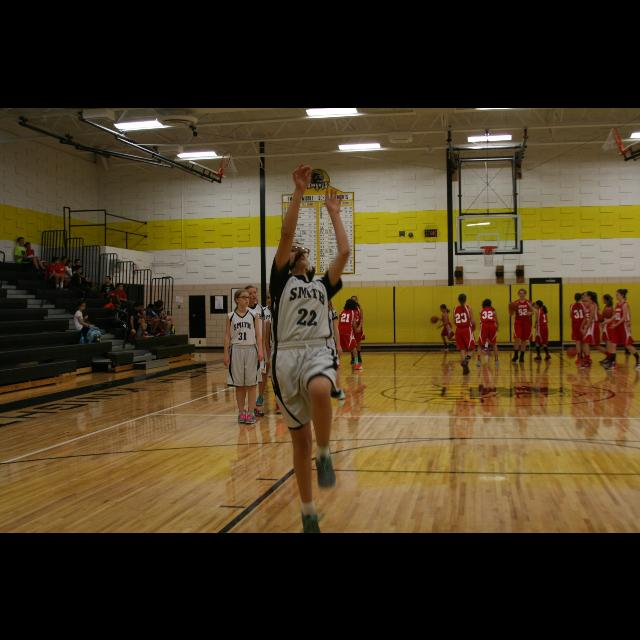head: (283, 240, 311, 272), (234, 289, 250, 307), (244, 284, 258, 302), (321, 296, 333, 308), (266, 291, 276, 305), (616, 288, 626, 300), (584, 290, 594, 302), (458, 292, 467, 304), (583, 292, 593, 302), (346, 298, 356, 308), (604, 294, 612, 304), (574, 292, 582, 302), (534, 300, 544, 308), (484, 298, 492, 308), (350, 295, 358, 305), (78, 300, 86, 310), (154, 300, 162, 310), (156, 300, 164, 310), (116, 282, 124, 292), (134, 302, 142, 310), (52, 256, 60, 264), (74, 259, 82, 267), (520, 289, 526, 299), (148, 303, 154, 313), (76, 264, 82, 274), (61, 256, 68, 264), (18, 237, 24, 246), (482, 300, 488, 308), (441, 304, 447, 312), (67, 258, 73, 266), (24, 242, 32, 248), (105, 276, 112, 282), (140, 302, 144, 310)
person: (223, 286, 264, 426), (232, 283, 268, 417), (304, 286, 346, 400), (255, 290, 289, 414), (578, 289, 612, 366), (334, 298, 364, 372), (452, 292, 478, 374), (508, 288, 534, 362), (569, 291, 593, 363), (579, 291, 603, 363), (476, 298, 500, 367), (345, 294, 367, 364), (430, 303, 462, 351), (598, 293, 618, 365), (74, 298, 102, 344), (532, 299, 552, 361), (126, 298, 156, 338), (13, 235, 45, 272), (150, 299, 176, 337), (479, 298, 496, 354), (146, 301, 170, 337), (44, 255, 68, 291), (132, 300, 154, 338), (69, 264, 89, 302), (140, 302, 162, 336), (66, 258, 88, 292), (108, 282, 128, 318), (23, 240, 44, 272), (100, 275, 118, 311), (53, 255, 71, 291), (60, 258, 76, 290)
